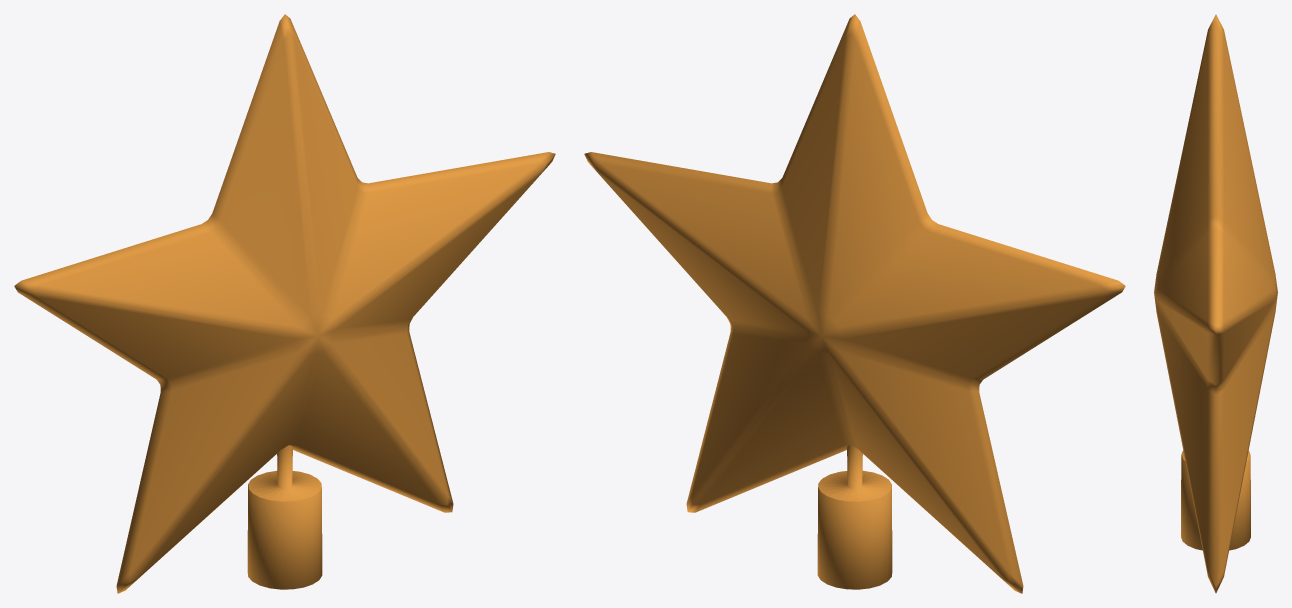
The picture shows the model from 3 angles, left to right: view 1: azimuth 30°, elevation 25°; view 2: azimuth 150°, elevation 25°; view 3: azimuth 270°, elevation 25°; orthographic projection. The views are drawn at different scales.
Parts seen in each view (by area): view 1: Star; view 2: Star; view 3: Star.
Boxes of the visible parts, left/top/right/bottom form: Star: left=14, top=14, right=555, bottom=593; Star: left=584, top=14, right=1125, bottom=593; Star: left=1154, top=14, right=1277, bottom=593.
Size of the model in its own units: 0.7437 by 0.7347 by 0.1578.
